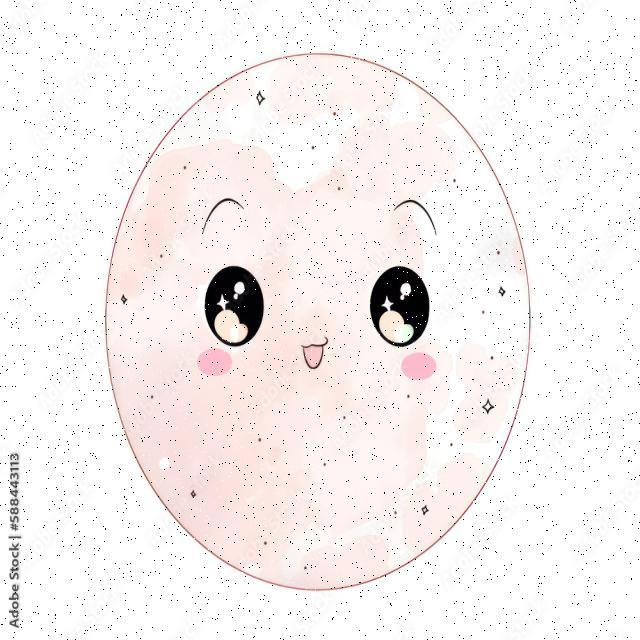Circle: (100, 50, 534, 594), (203, 265, 264, 347), (370, 265, 430, 348)
